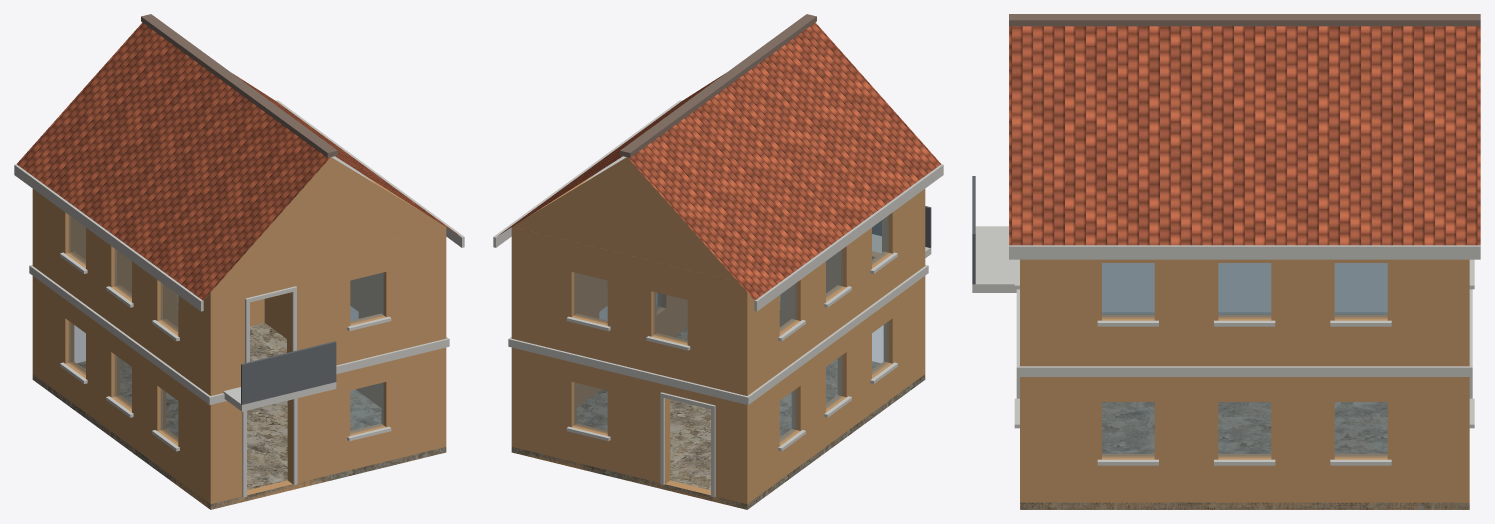
The model's file is cove-house-orange.coast-v1.lod1.glb.
3 renders of one model, left to right at view 1: azimuth 30°, elevation 25°; view 2: azimuth 150°, elevation 25°; view 3: azimuth 270°, elevation 25°, orthographic. The views are drawn at different scales.
Visible parts, largest first — view 1: cove-house-orange; view 2: cove-house-orange; view 3: cove-house-orange.
Part boxes in pixels (x1,y1,x2,y2): cove-house-orange: (14,14,464,509); cove-house-orange: (493,14,943,509); cove-house-orange: (972,14,1480,509).
Size of the model in its own units: 7.28 by 8.77 by 9.61.
Materials: 4 (2 with a texture image).
